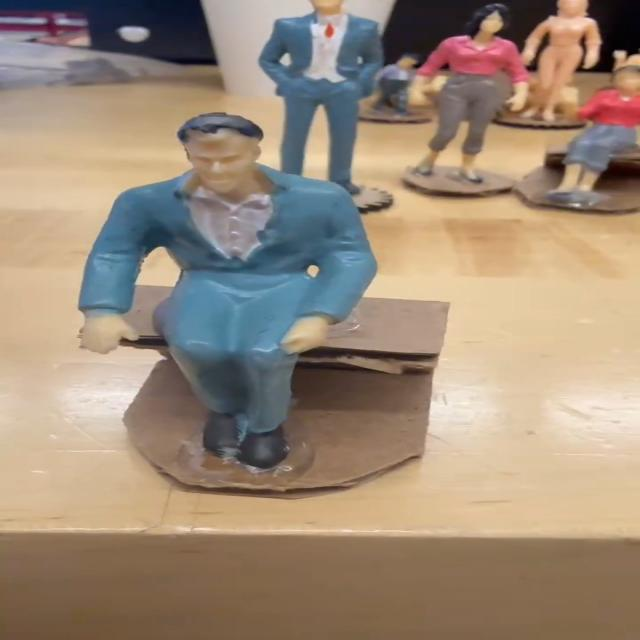Authorized: (1, 108, 426, 508)
